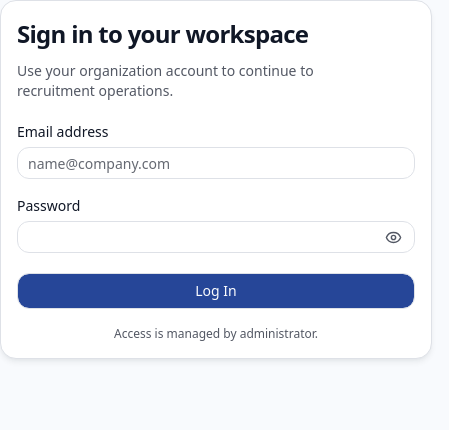
Test: LoginForm › shows validation errors for an empty submission
The width and height of the screenshot is (449, 430).
Click the button "Log In" at (216, 291), box [17, 273, 415, 309]
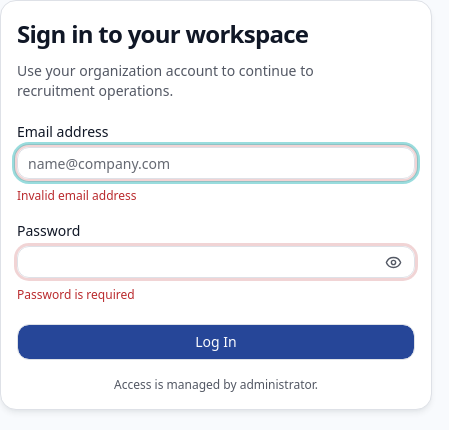
Result: the text "Invalid email address" is shown at [17, 187, 136, 204]
Result: the text "Password is required" is shown at [17, 286, 135, 303]
